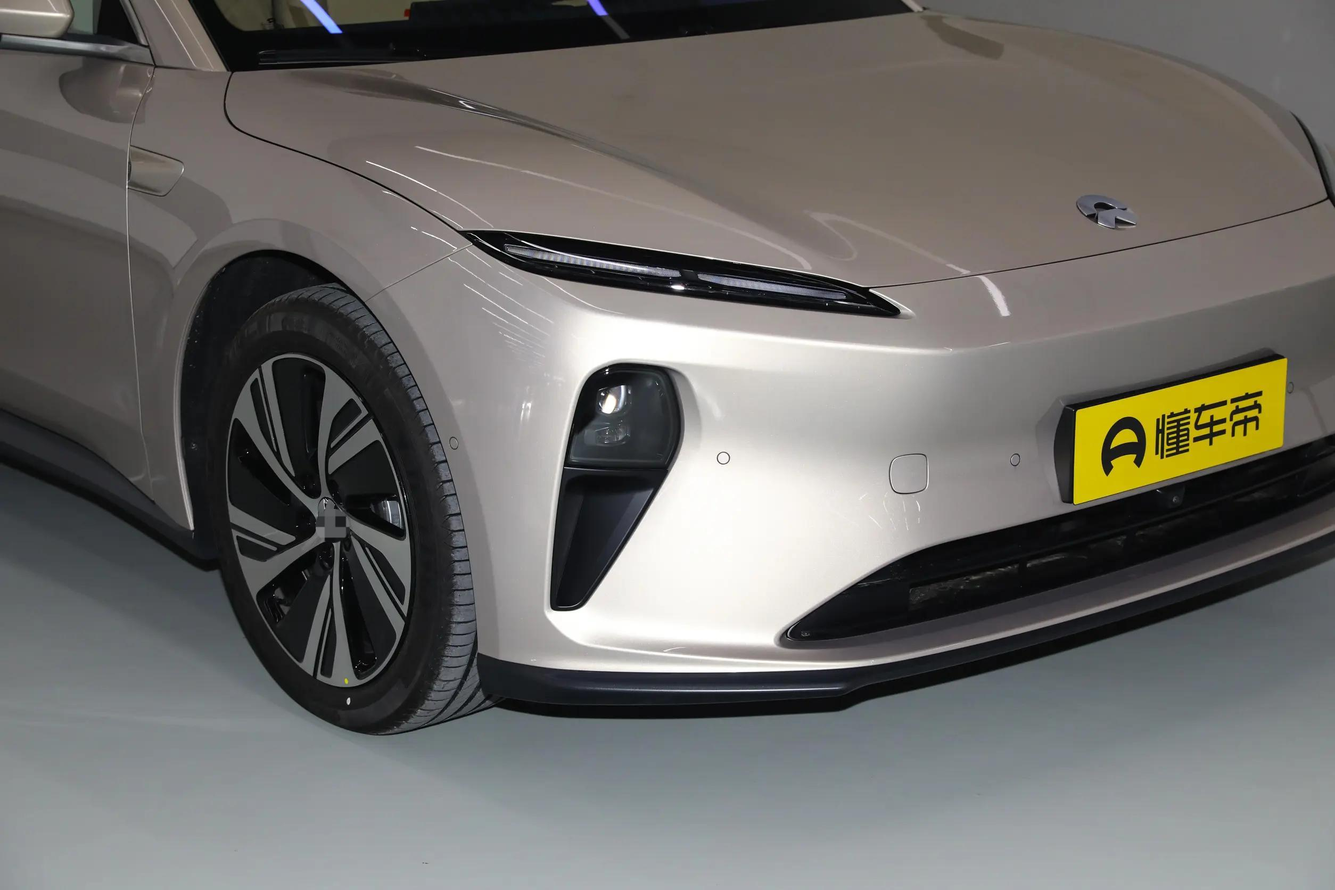NIO: (1078, 192, 1139, 228)
